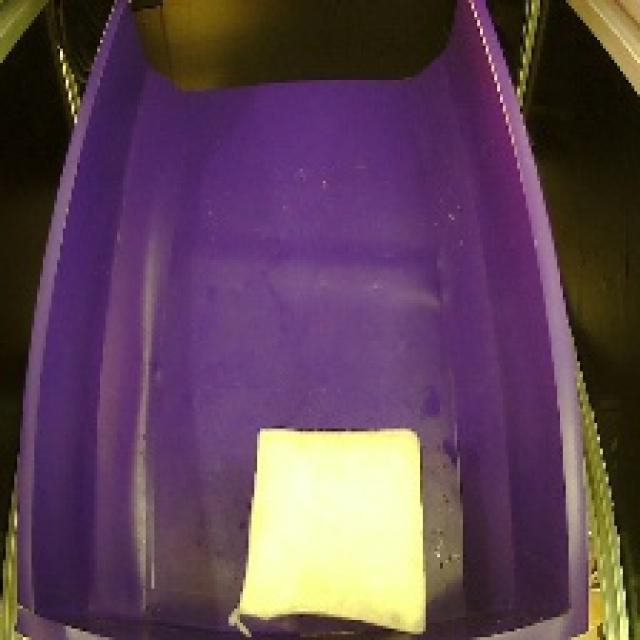white_radish: (213, 405, 455, 640)
